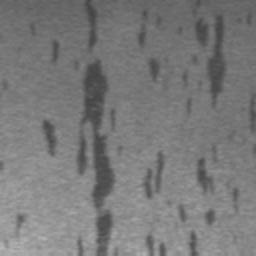Red iron sheet: (42, 1, 116, 256), (148, 0, 227, 116), (147, 157, 239, 256), (145, 151, 164, 200), (137, 9, 163, 44), (248, 92, 256, 132), (14, 214, 23, 237)
